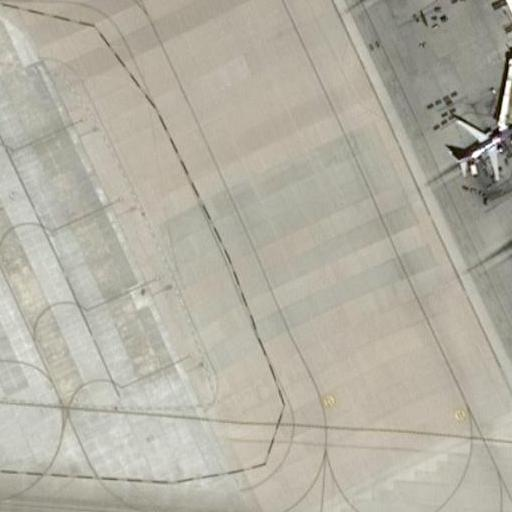Aircraft: (446, 112, 512, 182)
